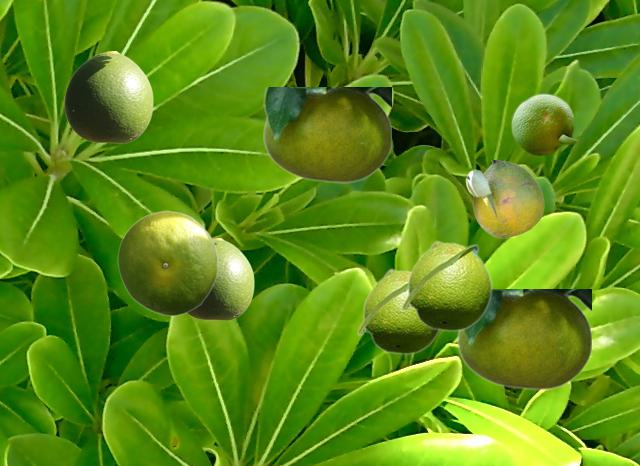dalandan: (457, 289, 590, 389), (263, 87, 390, 182), (117, 210, 217, 315), (400, 240, 492, 331), (64, 51, 152, 142), (356, 268, 439, 354), (465, 160, 543, 237), (187, 238, 253, 319), (510, 92, 578, 155)
